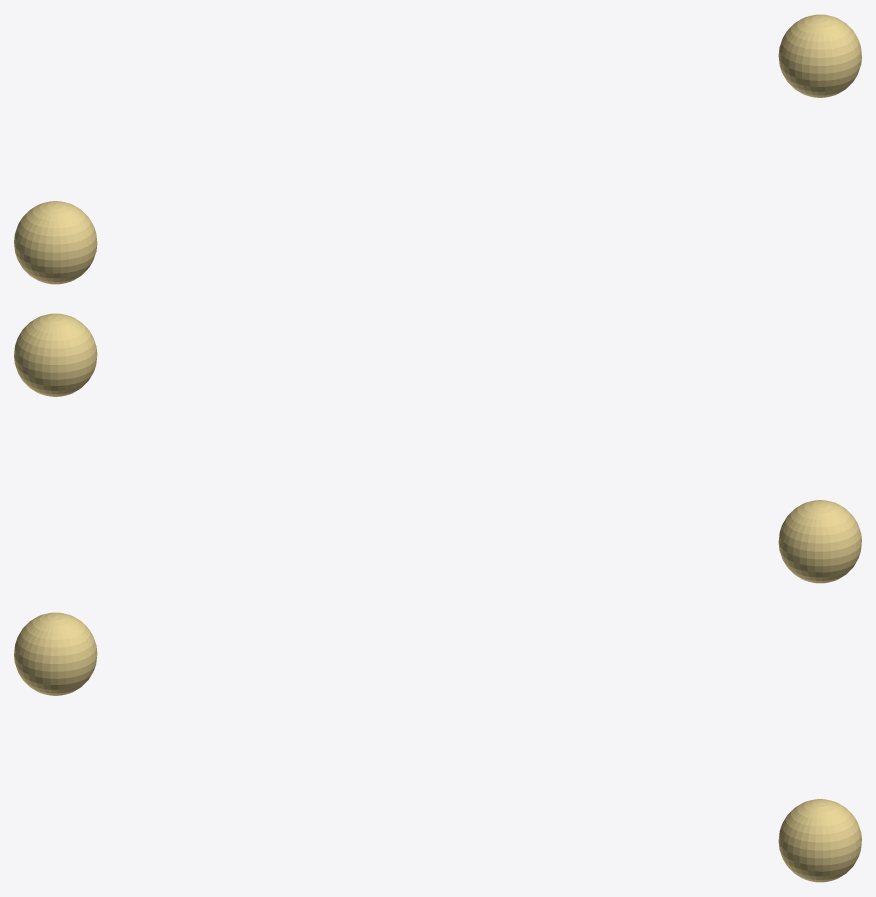
File: earrings.glb
3 views of the same model, one above another, from view 1: azimuth 30°, elevation 25°; view 2: azimuth 150°, elevation 25°; view 3: azimuth 330°, elevation 25° (orthographic).
Visible parts, largest first — view 1: earrings; view 2: earrings; view 3: earrings.
Boxes of the visible parts, <box> form: earrings: <box>14,14,861,284</box>; earrings: <box>14,313,861,583</box>; earrings: <box>14,612,861,882</box>.
Bounding box in the file's own units: 0.1388 × 0.012 × 0.012.
